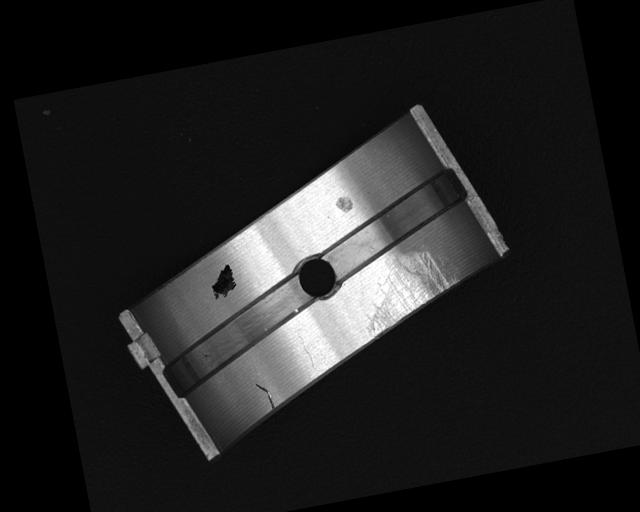blot: (206, 263, 239, 302)
bruise: (334, 194, 354, 215)
gap: (149, 270, 322, 396), (309, 164, 478, 283)
hole: (291, 251, 341, 306)
nick: (255, 381, 276, 414), (298, 332, 316, 369)
scratch: (353, 243, 469, 339)
